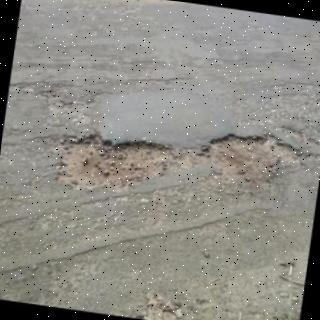pothole: (56, 134, 301, 185)
